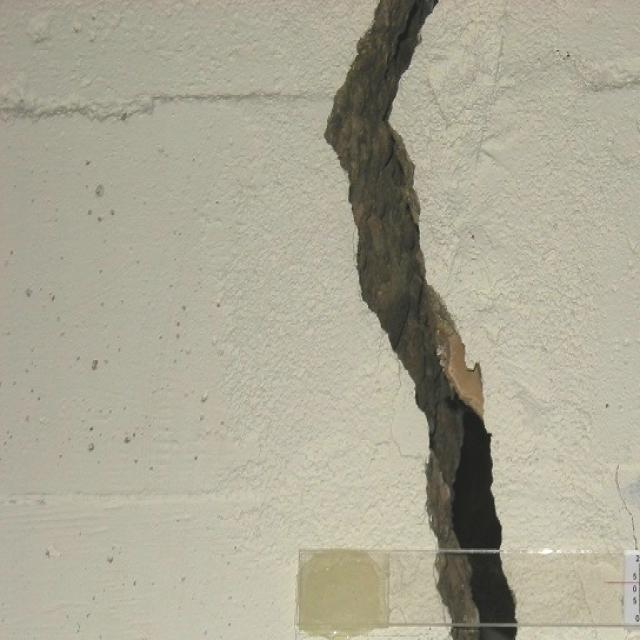spall: (324, 1, 524, 638)
